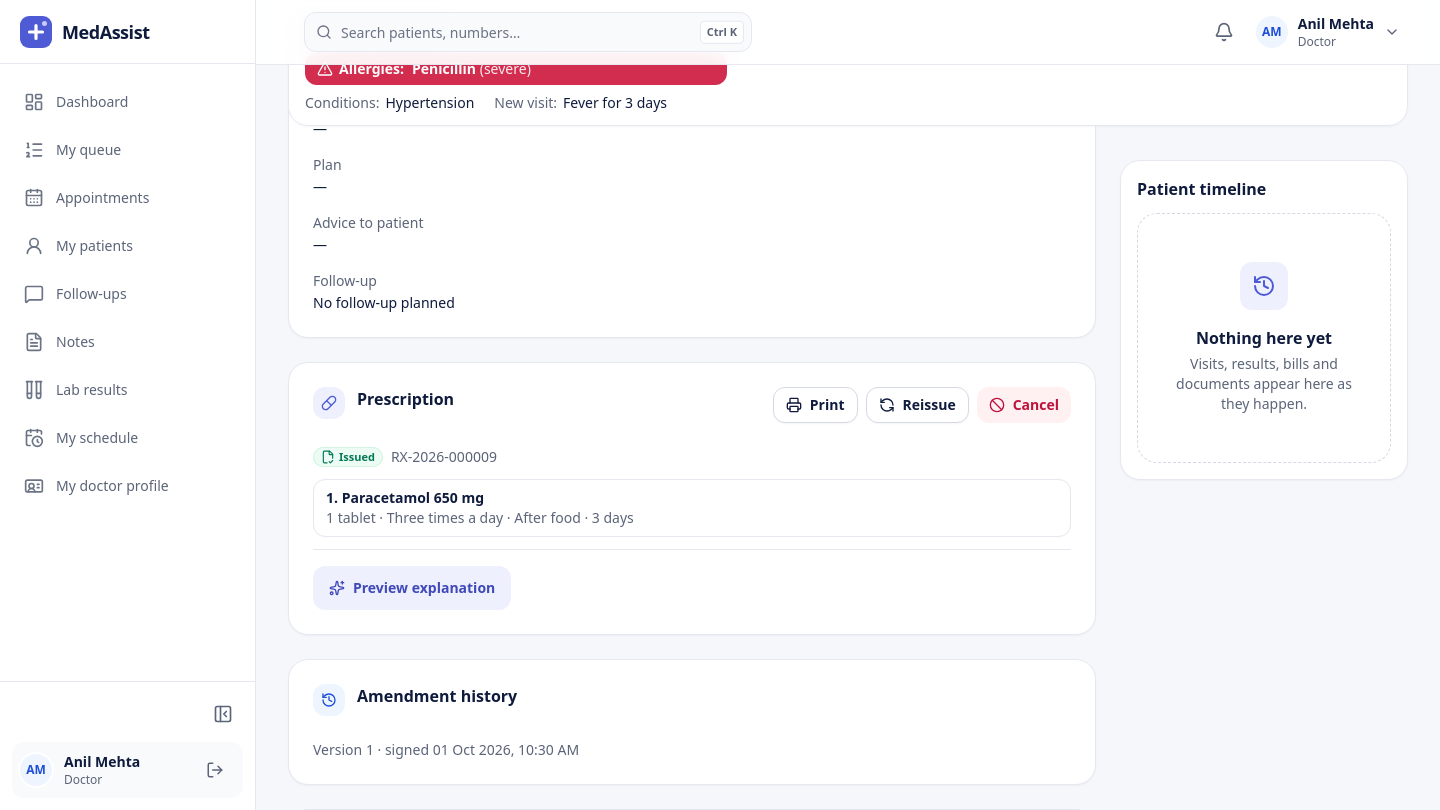
Test: Issued prescription on a signed note › Reissue asks for a reason, then the new draft is edited and issued
(page scrolled)
Click the button "Reissue".
click(917, 405)  # box [866,387,969,423]
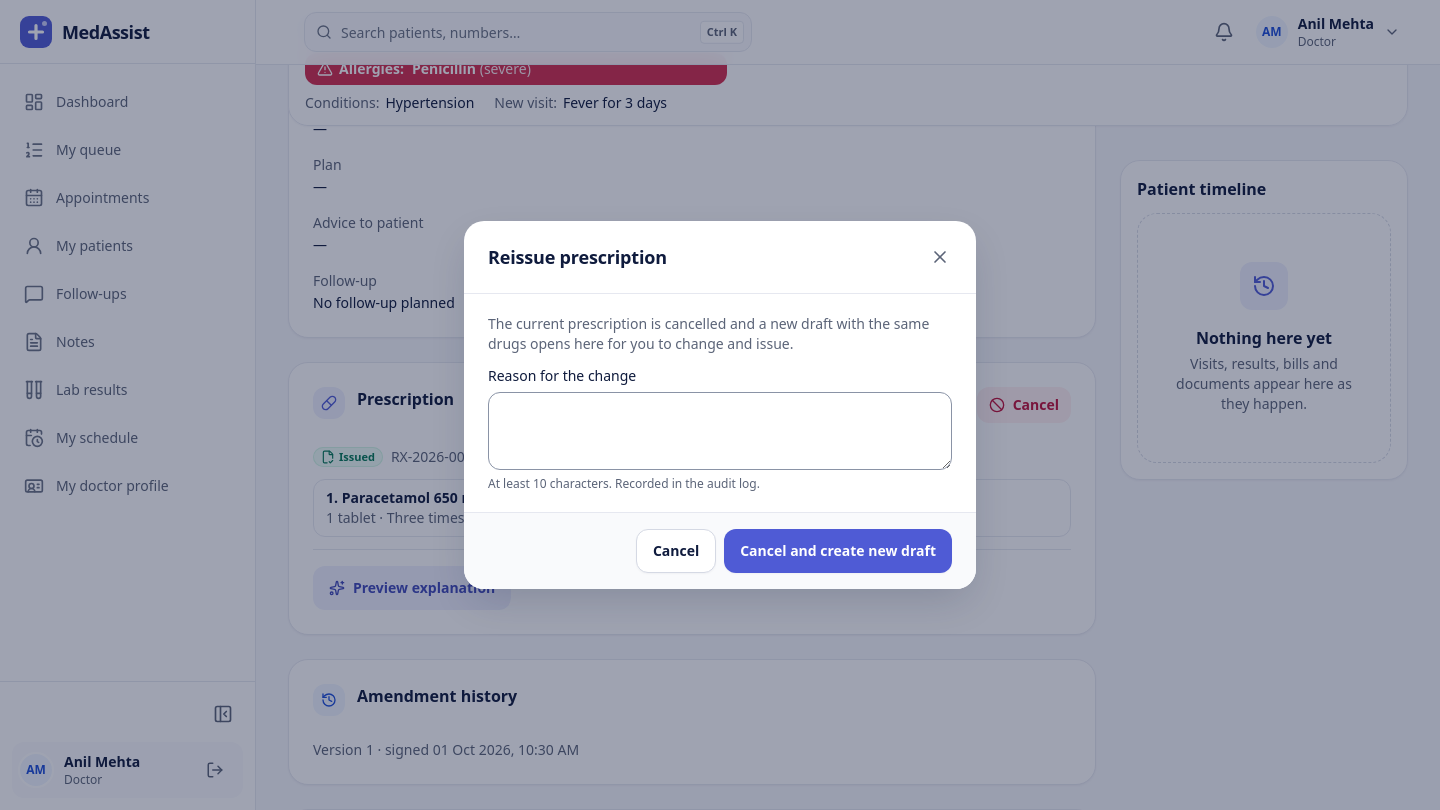
Type "Dose to change" into the text box labelled "Reason for the change".
click(720, 431); type("Dose to change")  # box [488,392,952,470]
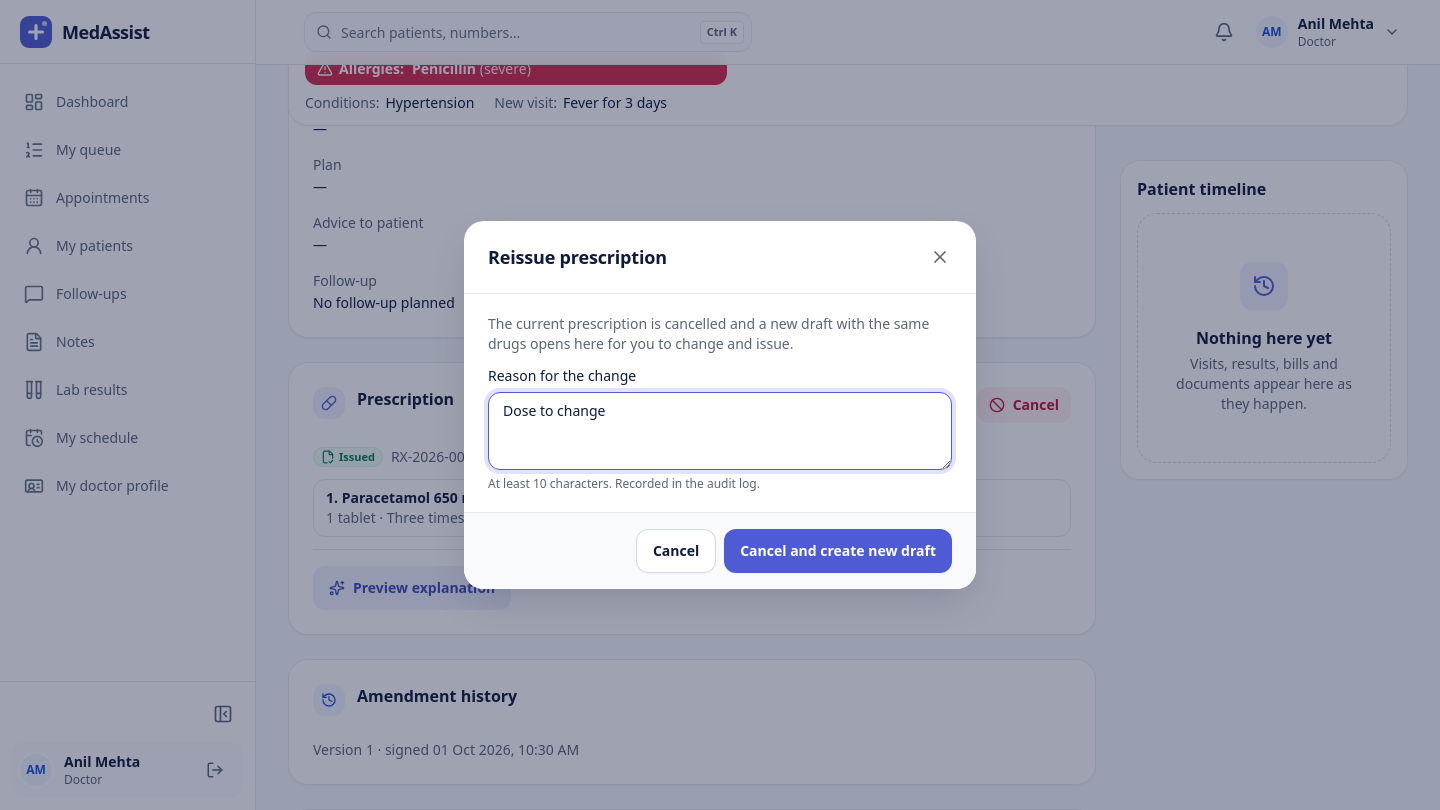
Click the button "Cancel and create new draft".
click(838, 551)  # box [724,529,952,573]
(page scrolled)
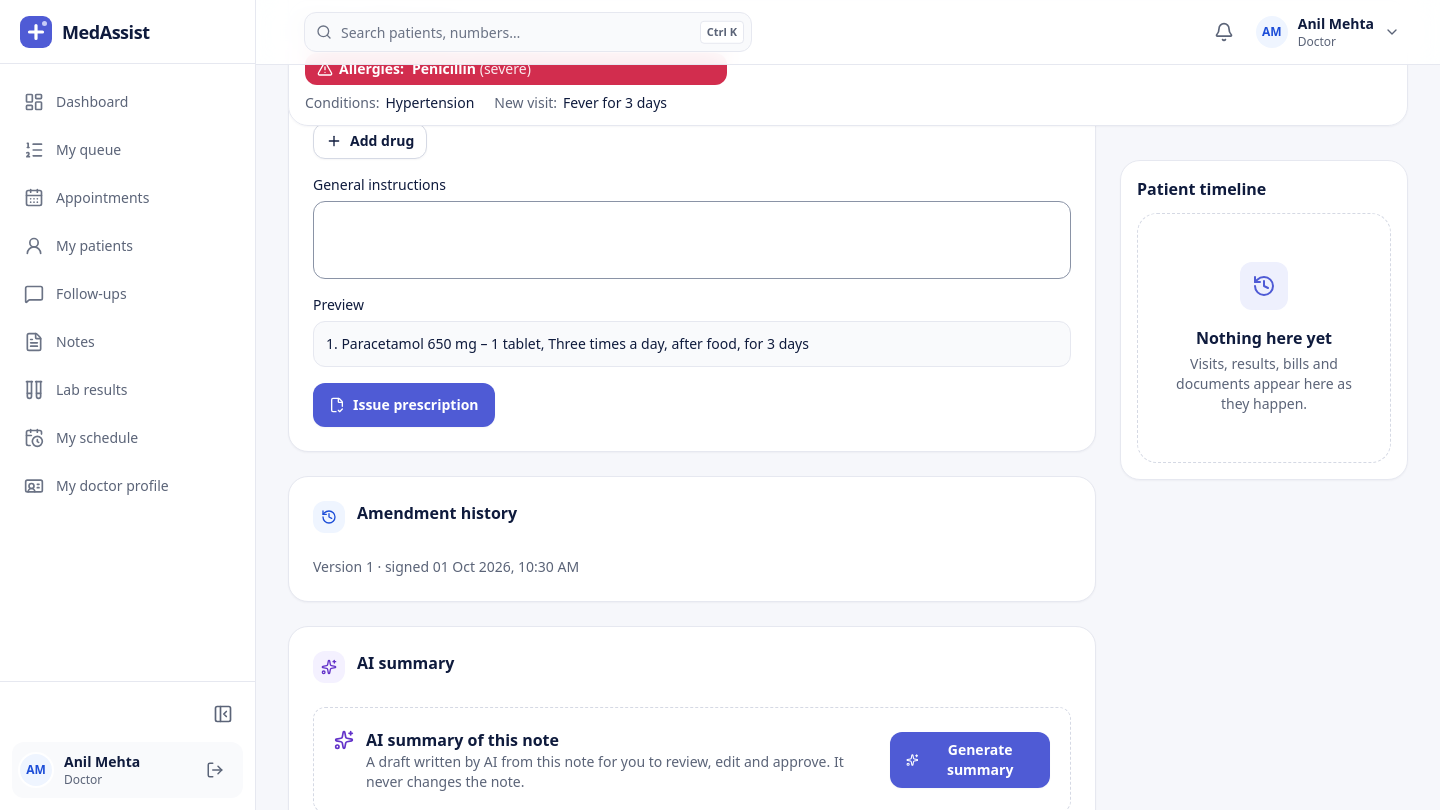
Click the button "Issue prescription".
click(404, 405)  # box [313,383,494,427]
(page scrolled)
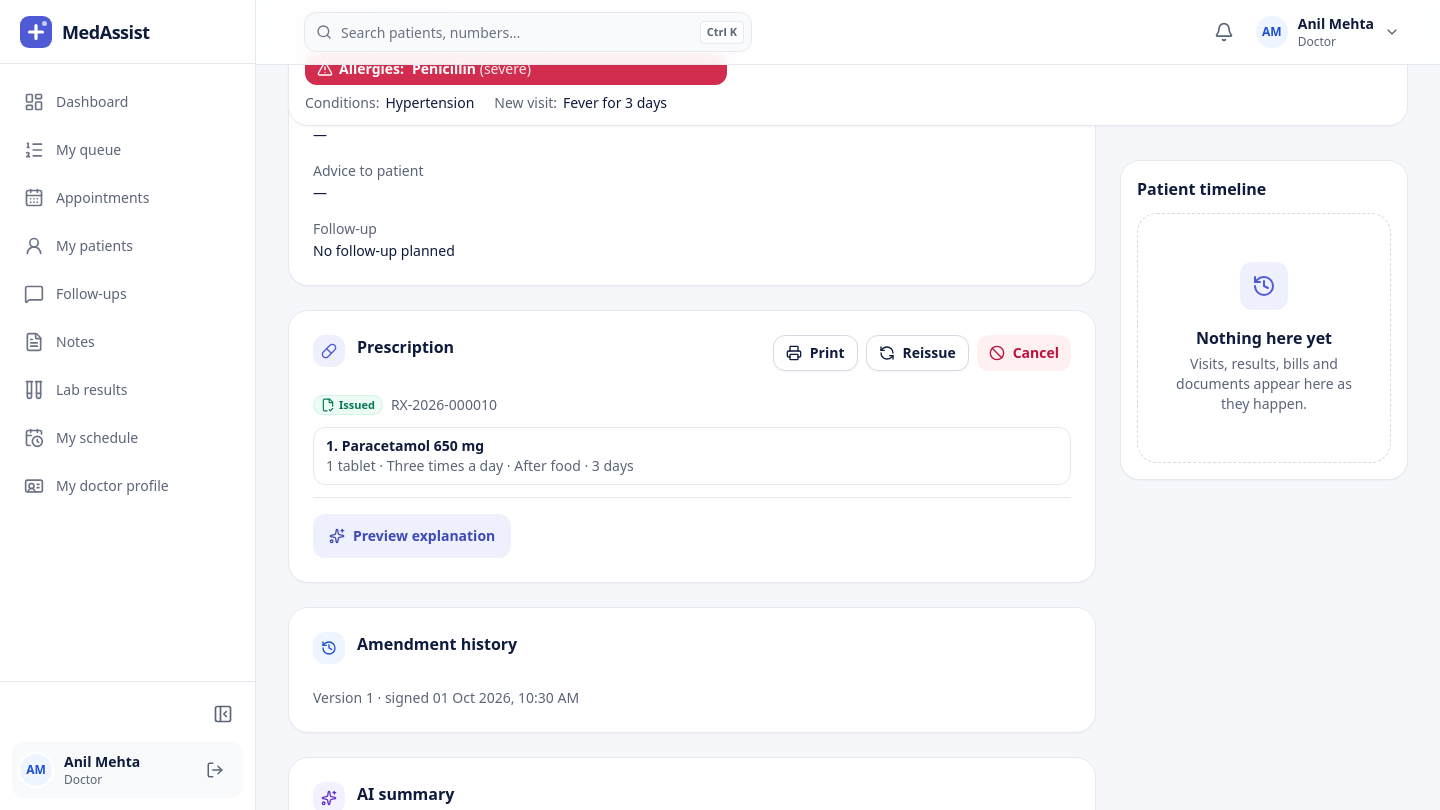
Check: the text "RX-2026-000010" is shown, box [391,395,497,415]
